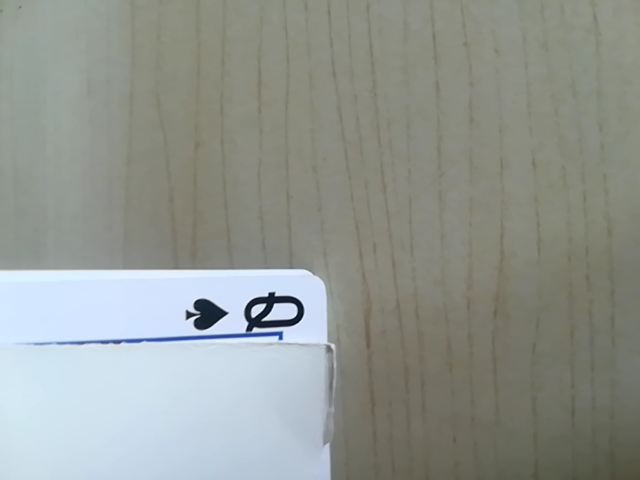ht q: (162, 279, 334, 357)
